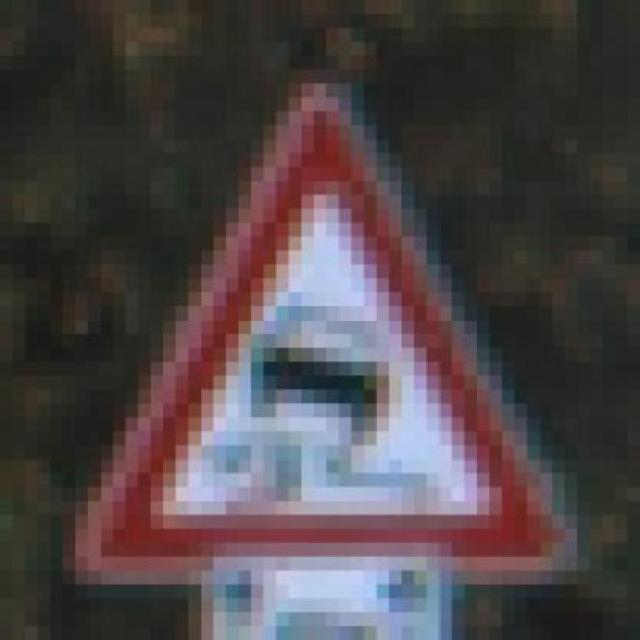Slippery Road Ahead: (63, 47, 579, 590)
